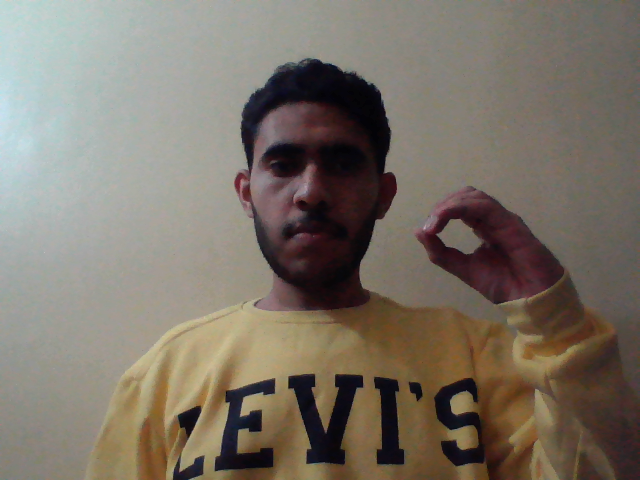O: (410, 181, 569, 322)
